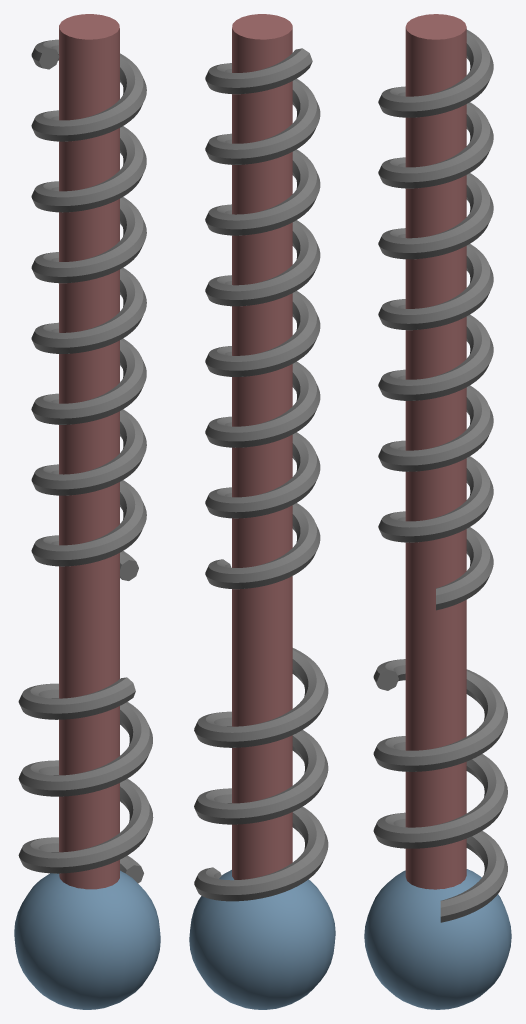
Rendered from slingshot.fbx.
The picture shows the model from 3 angles, left to right: view 1: azimuth 30°, elevation 25°; view 2: azimuth 150°, elevation 25°; view 3: azimuth 270°, elevation 25°; orthographic projection.
Parts seen in each view (by area): view 1: pCylinder1, pHelix1, pSphere1, pHelix2; view 2: pCylinder1, pHelix1, pSphere1, pHelix2; view 3: pCylinder1, pHelix1, pSphere1, pHelix2.
Part boxes in pixels (x1,y1,x2,y2): pCylinder1: [59, 14, 119, 889]; pHelix1: [31, 39, 146, 580]; pSphere1: [14, 870, 160, 1009]; pHelix2: [18, 677, 153, 883]; pCylinder1: [232, 14, 292, 879]; pHelix1: [205, 48, 320, 589]; pSphere1: [189, 870, 335, 1009]; pHelix2: [194, 648, 328, 901]; pCylinder1: [405, 14, 466, 889]; pHelix1: [378, 29, 493, 610]; pSphere1: [364, 869, 511, 1009]; pHelix2: [373, 659, 507, 922].
Size of the model in its own units: 5.04 by 36.83 by 5.04.
